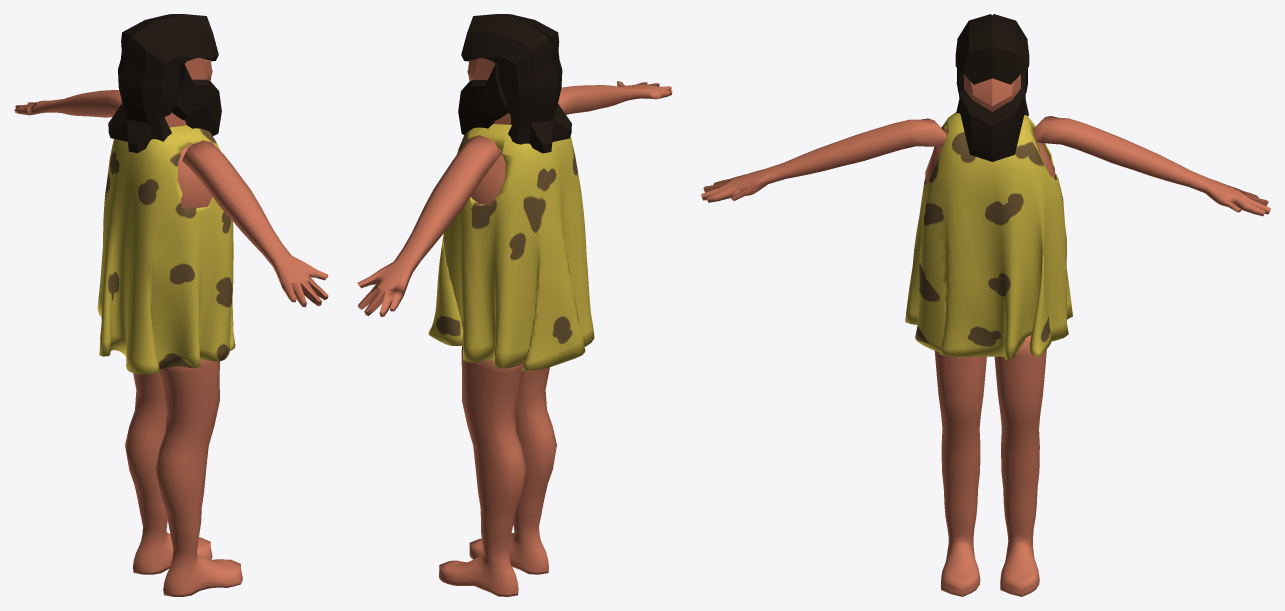
Rendered from caveman_1_tpose.obj.
3 renders of one model, left to right at view 1: azimuth 30°, elevation 25°; view 2: azimuth 150°, elevation 25°; view 3: azimuth 270°, elevation 25°, orthographic. The views are drawn at different scales.
Parts seen in each view (by area): view 1: Caveman_1_Clubber_Mesh; view 2: Caveman_1_Clubber_Mesh; view 3: Caveman_1_Clubber_Mesh.
Part boxes in pixels (x1,y1,x2,y2): Caveman_1_Clubber_Mesh: (14,14,328,596); Caveman_1_Clubber_Mesh: (357,14,672,596); Caveman_1_Clubber_Mesh: (701,14,1270,596).
Size of the model in its own units: 0.4938 by 1.95 by 1.84.
